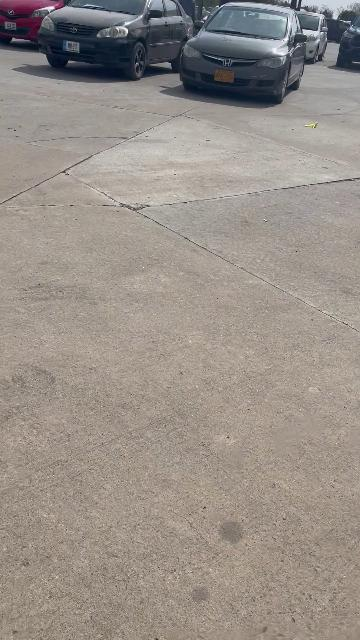plate: (214, 69, 236, 83), (63, 40, 80, 53), (5, 22, 16, 30)
